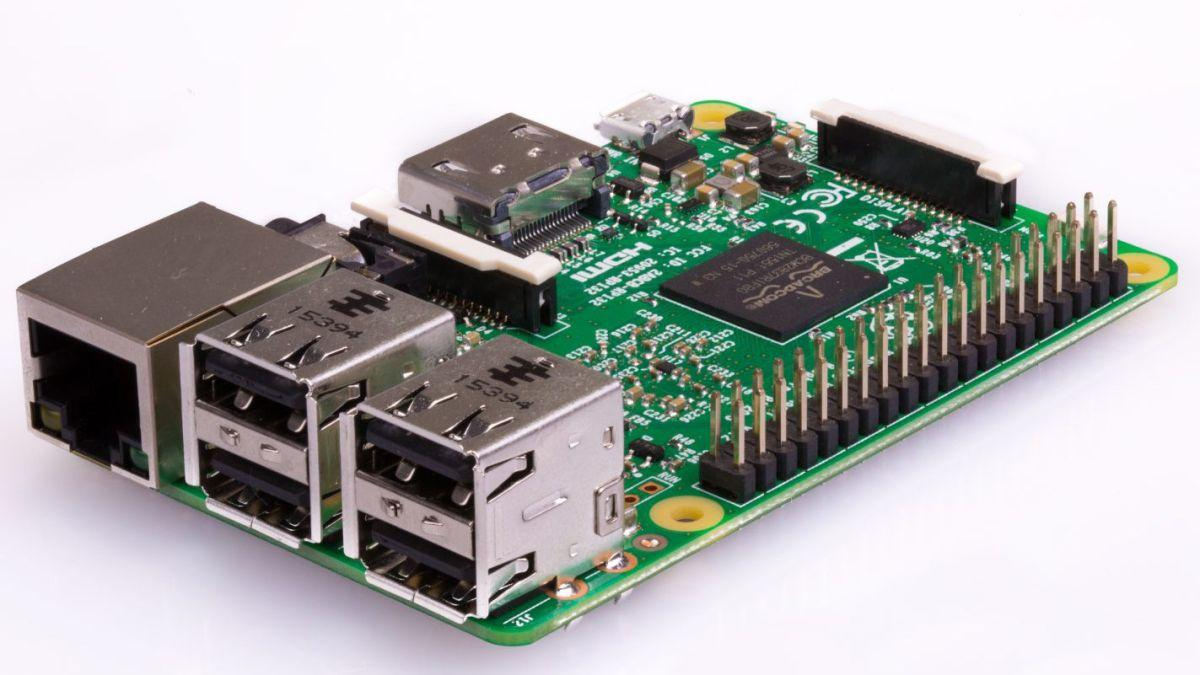bchi: (663, 229, 882, 343)
ethernet: (25, 203, 322, 485)
gpio: (692, 192, 1129, 502)
usb: (337, 331, 633, 619), (183, 267, 450, 546)
